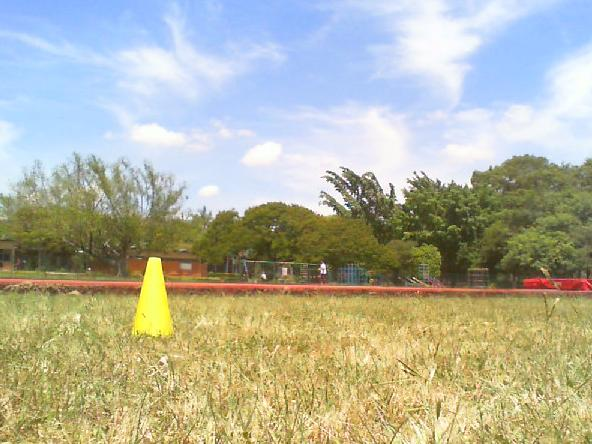0 cone: (132, 258, 174, 338)
